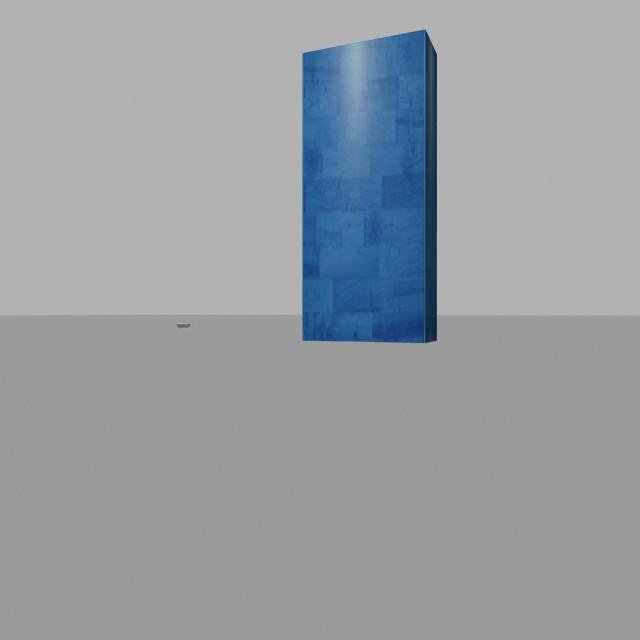bowl: (173, 316, 194, 336)
shelf: (296, 17, 450, 367)
